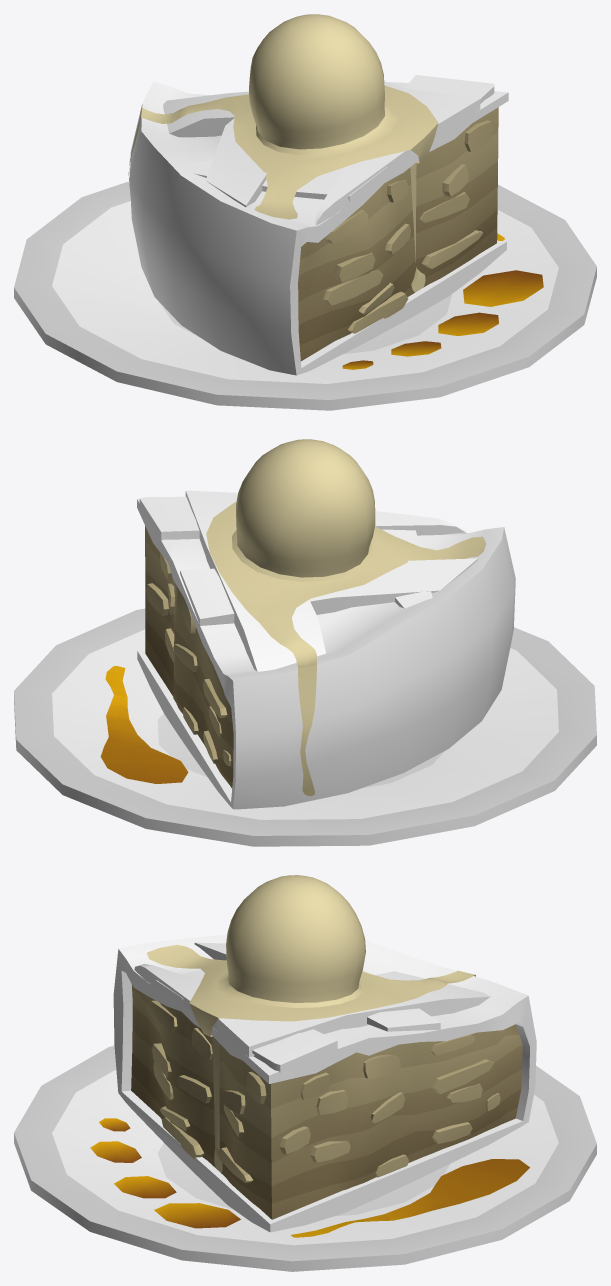
Rendered from 3D_dishe_Items_Apple-Pie.fbx.
3 views of the same model, one above another, from view 1: azimuth 30°, elevation 25°; view 2: azimuth 150°, elevation 25°; view 3: azimuth 270°, elevation 25° (orthographic).
Visible parts, largest first — view 1: 3D_dishe_Items_Apple-Pie; view 2: 3D_dishe_Items_Apple-Pie; view 3: 3D_dishe_Items_Apple-Pie.
Boxes of the visible parts, <box> form: 3D_dishe_Items_Apple-Pie: <box>14,14,596,410</box>; 3D_dishe_Items_Apple-Pie: <box>14,439,596,846</box>; 3D_dishe_Items_Apple-Pie: <box>14,875,596,1271</box>.
Bounding box in the file's own units: 70.76 × 39.42 × 70.76.
